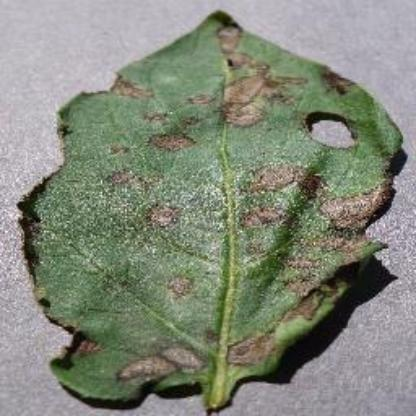Early-Blight: (17, 12, 404, 402)
